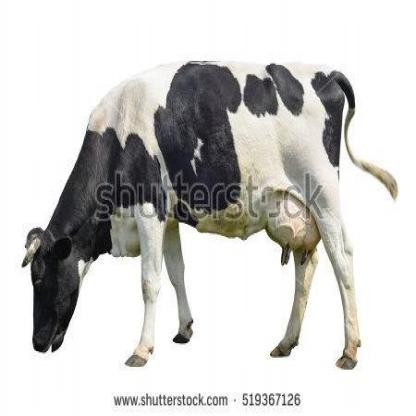cow: (30, 61, 397, 364)
